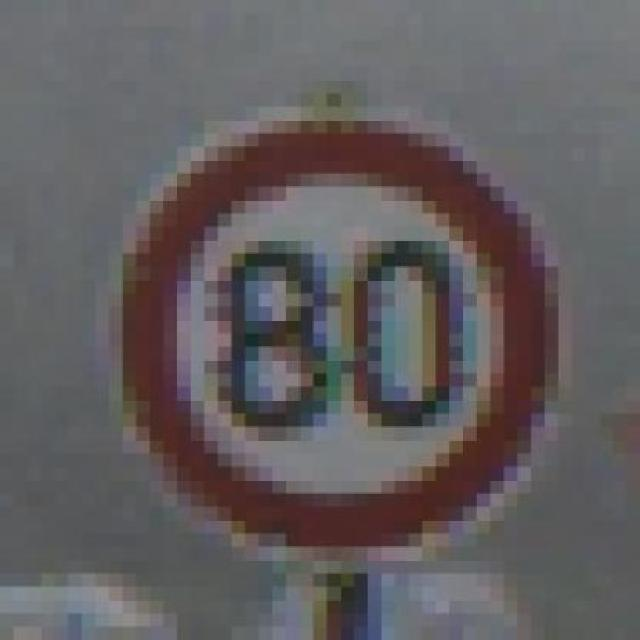forb_speed_over_80: (126, 126, 554, 549)
